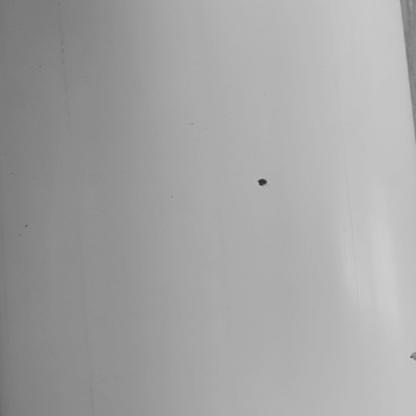kongdong: (250, 170, 290, 200)
